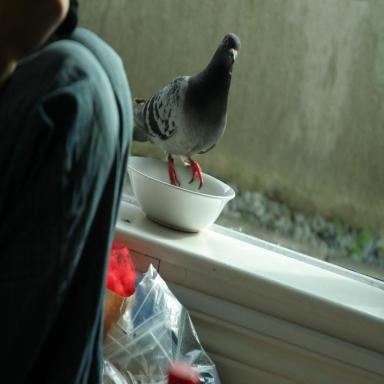plasticbag: (115, 261, 220, 383), (98, 304, 176, 383), (102, 320, 148, 383)
